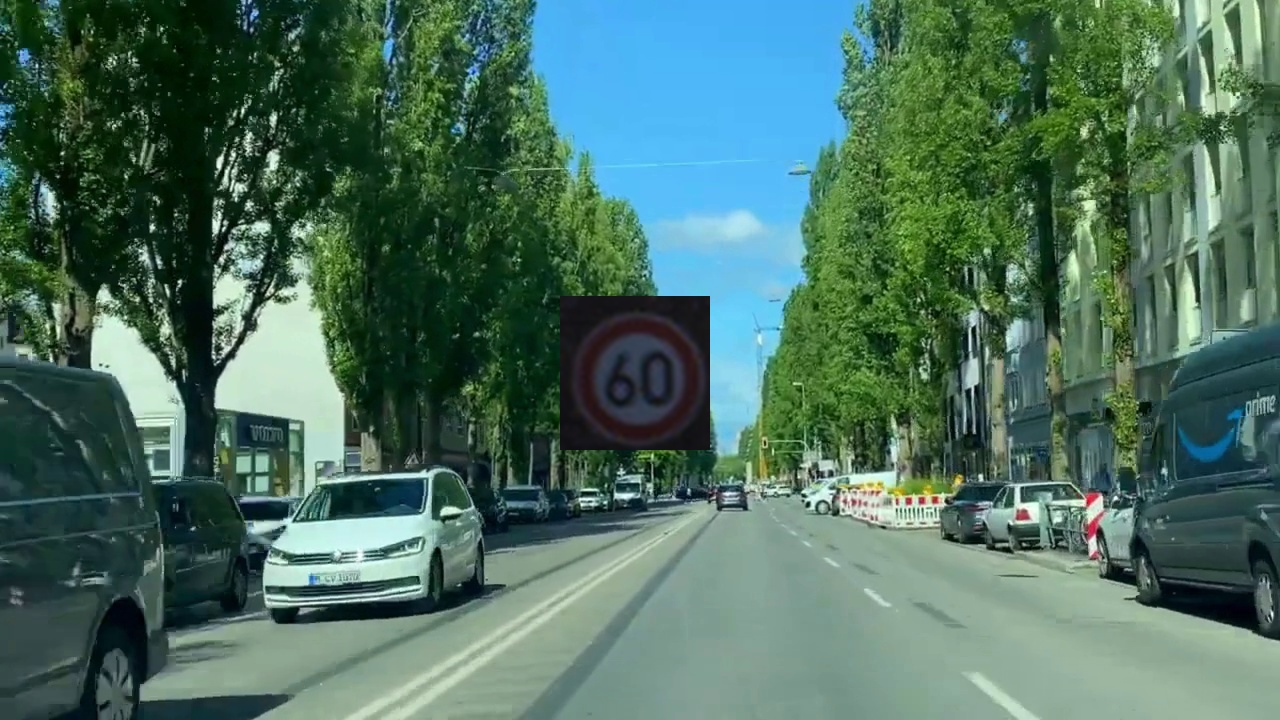Speed 60: (560, 296, 710, 450)
